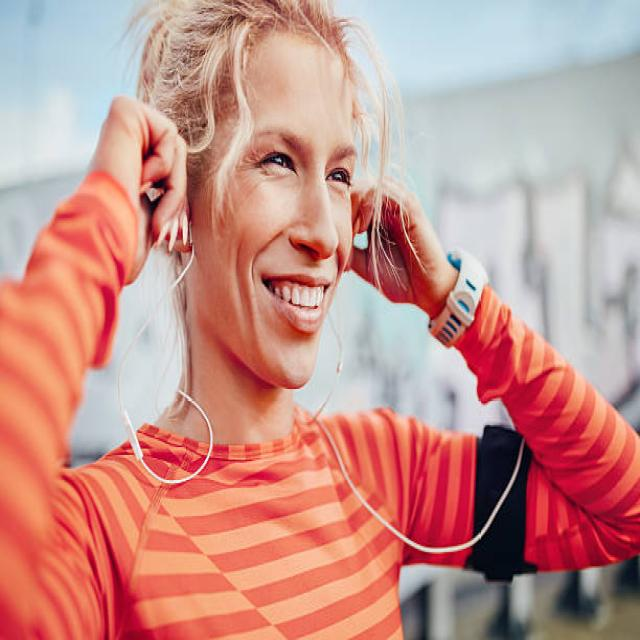Neckband: (114, 217, 529, 553)
